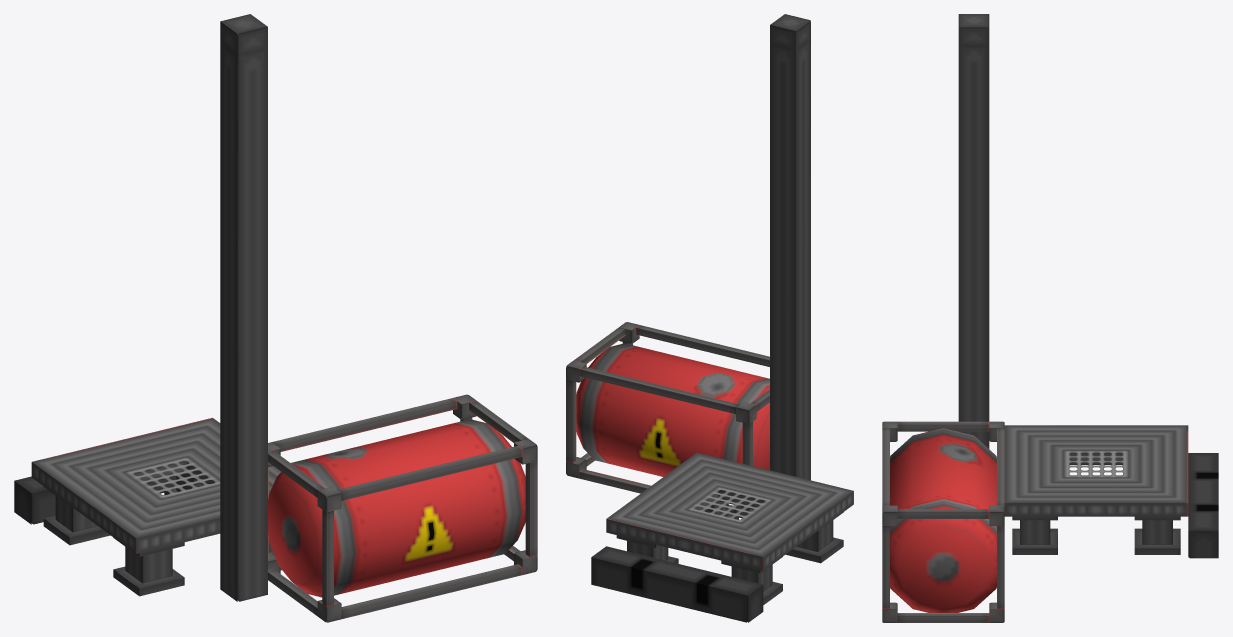
The model's file is v2_pad.obj.
3 views of the same model, side by side, from view 1: azimuth 30°, elevation 25°; view 2: azimuth 150°, elevation 25°; view 3: azimuth 270°, elevation 25° (orthographic). The views are drawn at different scales.
Visible parts, largest first — view 1: v2_pad; view 2: v2_pad; view 3: v2_pad.
Part boxes in pixels (left/top/right/bottom): v2_pad: left=14, top=14, right=537, bottom=622; v2_pad: left=566, top=14, right=853, bottom=622; v2_pad: left=882, top=14, right=1218, bottom=622.
Size of the model in its own units: 5.5 by 9 by 5.5.
